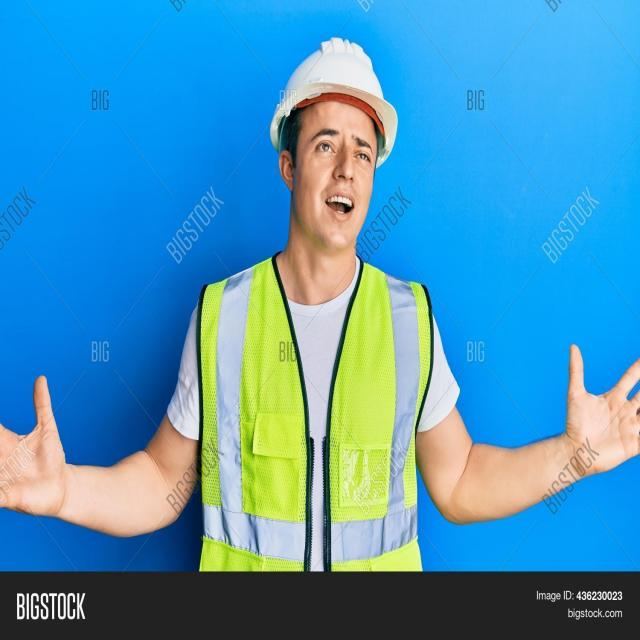Reflective-Jacket: (194, 257, 436, 572)
Safety-Helmet: (268, 34, 399, 161)
